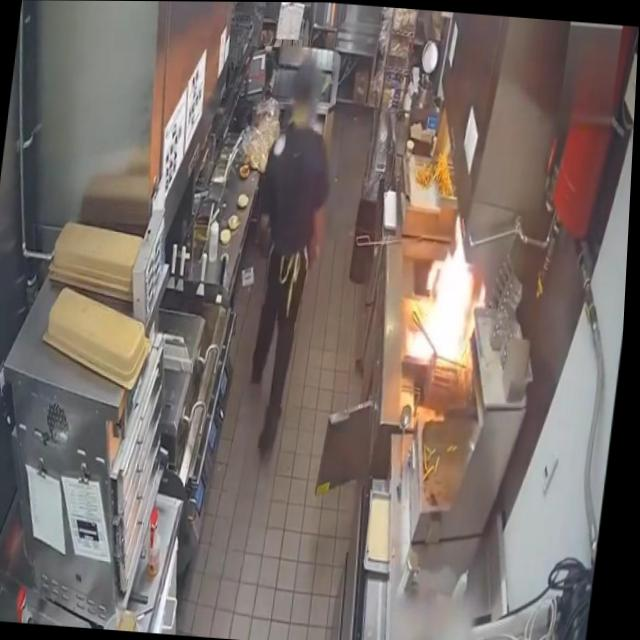fire: (413, 210, 494, 372)
